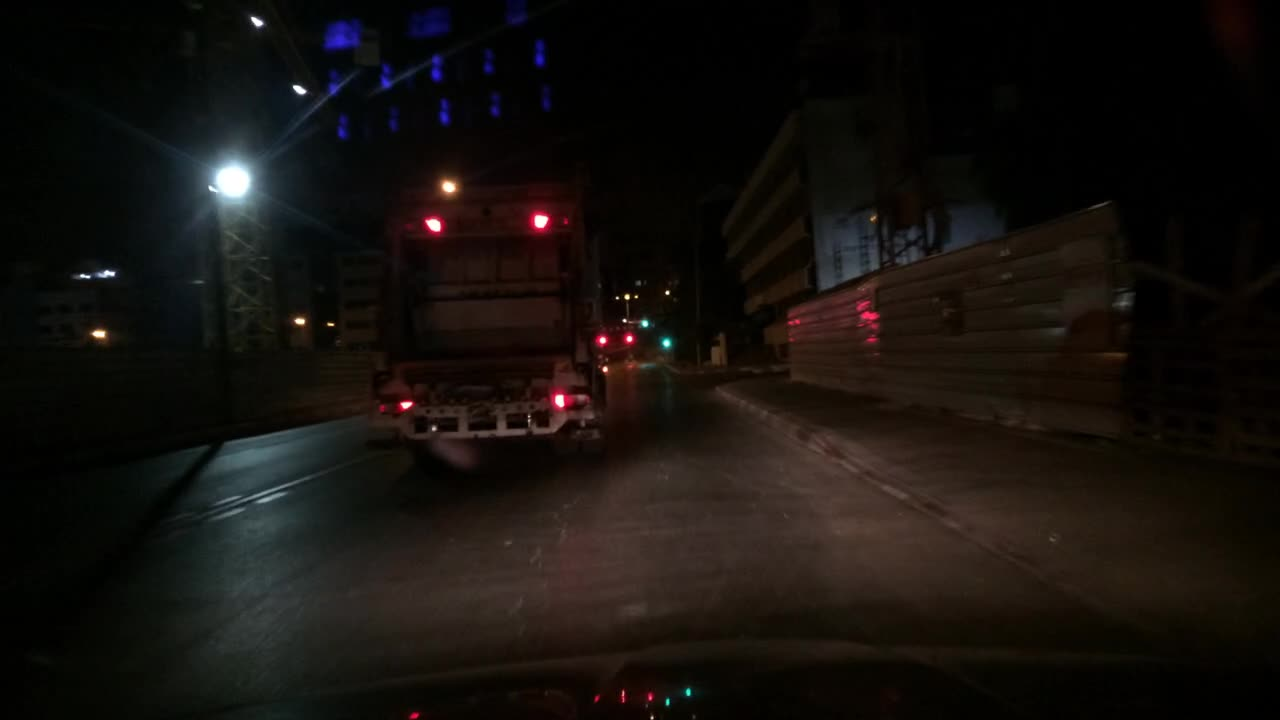traffic light: (662, 337, 674, 355), (640, 315, 652, 330)
truck: (369, 171, 637, 463), (598, 320, 636, 362)
